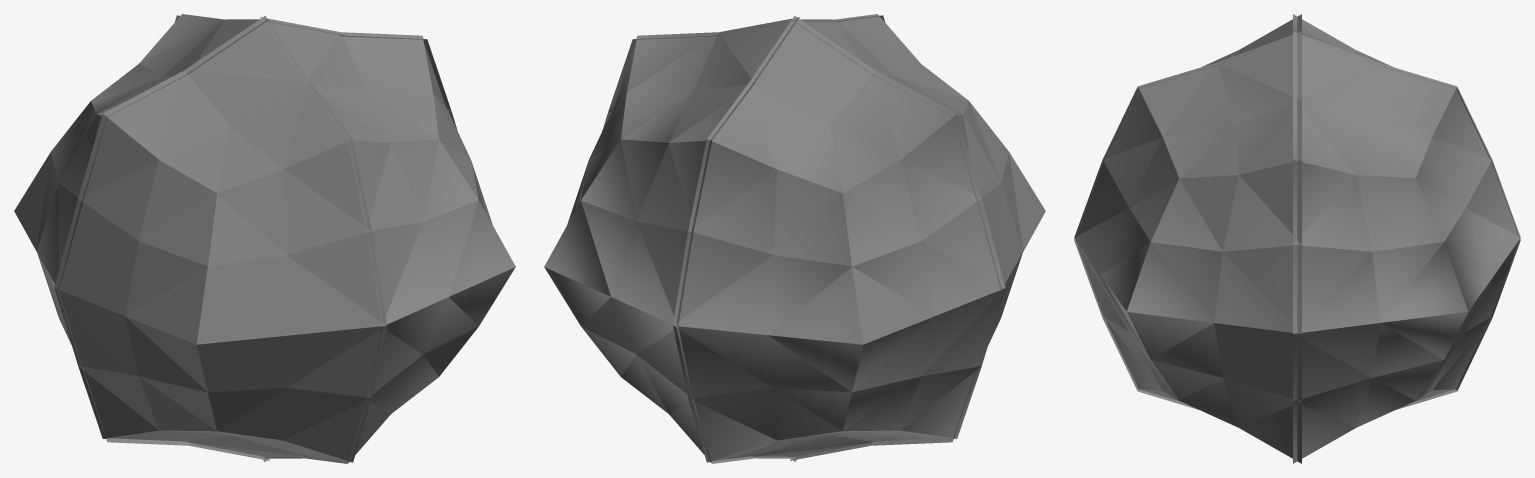
The model's file is enemyEffect.obj.
The picture shows the model from 3 angles, left to right: view 1: azimuth 30°, elevation 25°; view 2: azimuth 150°, elevation 25°; view 3: azimuth 270°, elevation 25°; orthographic projection. The views are drawn at different scales.
Visible parts, largest first — view 1: 立方体_立方体.002; view 2: 立方体_立方体.002; view 3: 立方体_立方体.002.
Boxes of the visible parts, <box> form: 立方体_立方体.002: <box>14,14,515,463</box>; 立方体_立方体.002: <box>544,14,1045,463</box>; 立方体_立方体.002: <box>1074,14,1520,463</box>.
Size of the model in its own units: 0.7699 by 0.7799 by 0.7645.
Materials: 1 (1 with a texture image).
